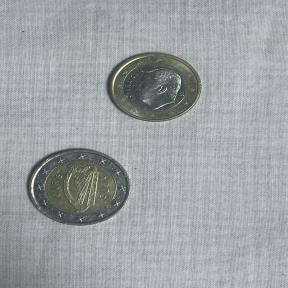1 Euro-B: (104, 48, 206, 124)
2 Euro-B: (22, 144, 134, 230)
